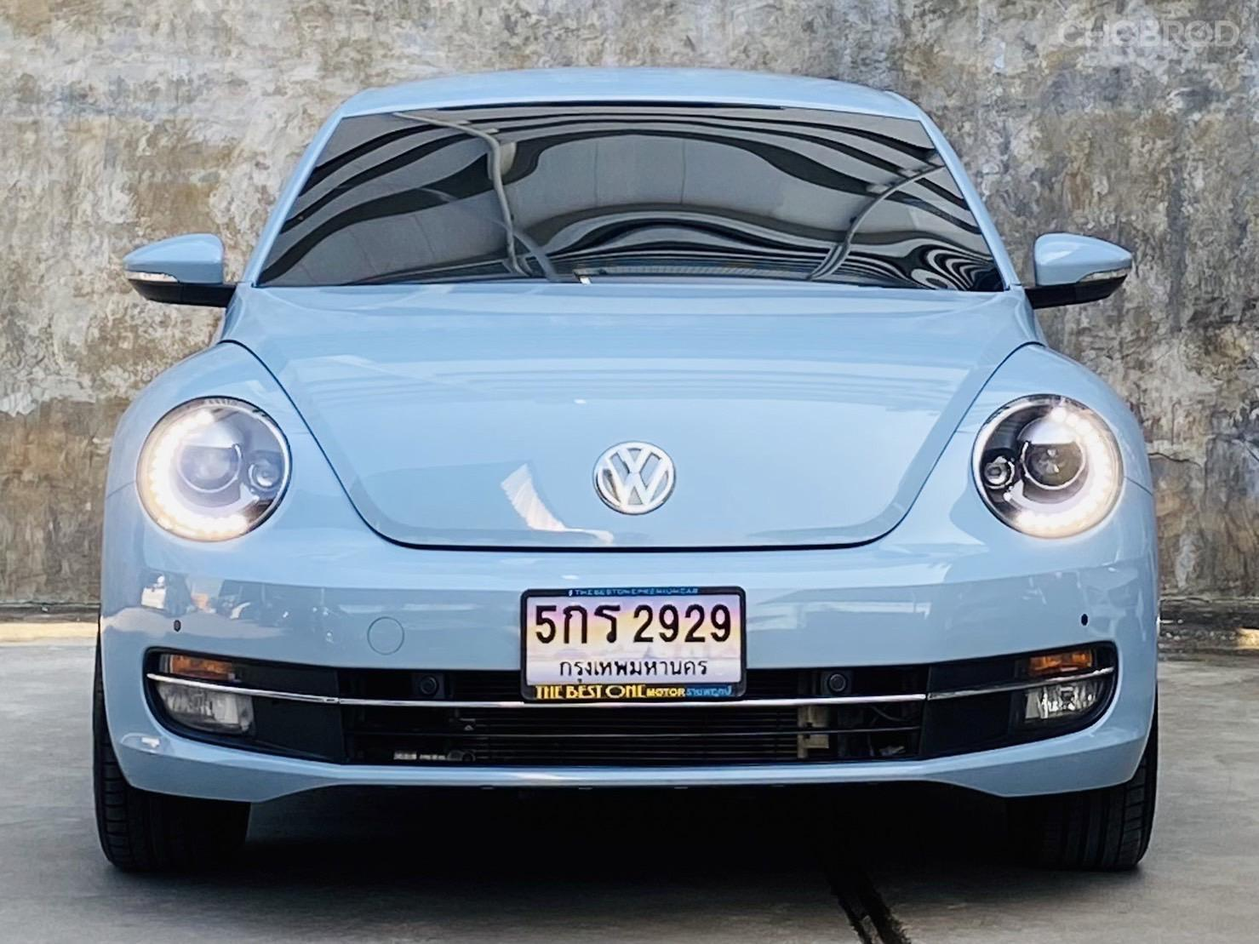license-plate: (520, 587, 749, 700)
